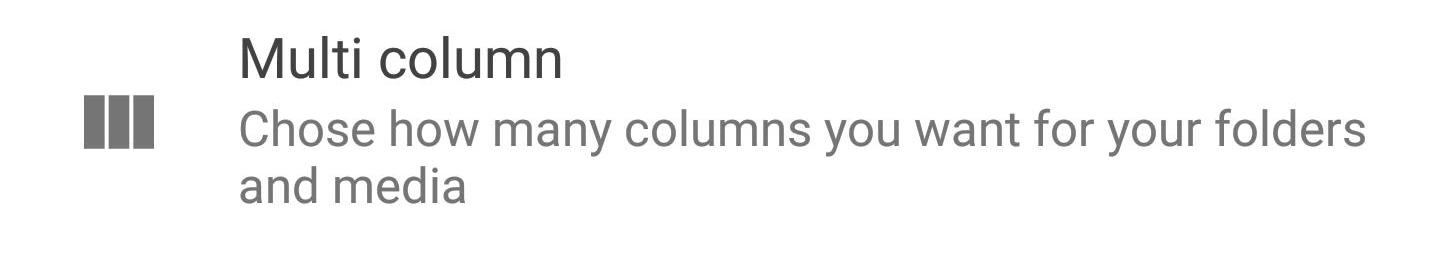CheckedTextView: (1, 1, 1439, 254)
